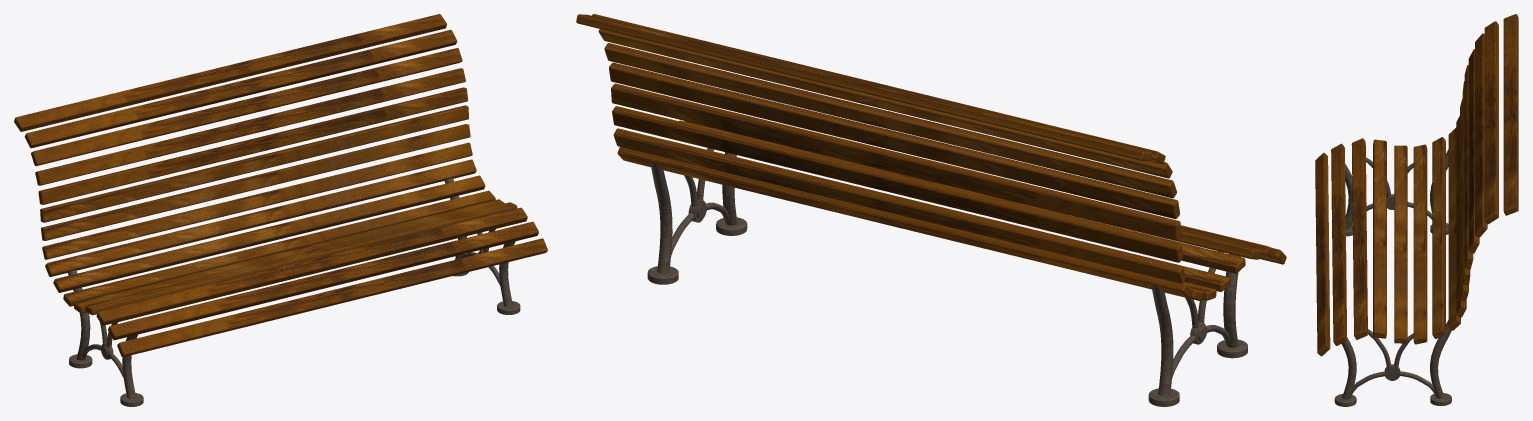
File: Banco.fbx
The picture shows the model from 3 angles, left to right: view 1: azimuth 30°, elevation 25°; view 2: azimuth 150°, elevation 25°; view 3: azimuth 270°, elevation 25°; orthographic projection. The views are drawn at different scales.
Parts seen in each view (by area): view 1: Respaldo_Tablon_9.001, PatasBanco; view 2: Respaldo_Tablon_9.001, PatasBanco; view 3: Respaldo_Tablon_9.001, PatasBanco.
Part boxes in pixels (x1,y1,x2,y2): Respaldo_Tablon_9.001: (14, 14, 547, 357); PatasBanco: (68, 178, 520, 406); Respaldo_Tablon_9.001: (576, 14, 1286, 300); PatasBanco: (647, 148, 1247, 406); Respaldo_Tablon_9.001: (1315, 14, 1518, 356); PatasBanco: (1334, 149, 1451, 406).
Bounding box in the file's own units: 618 × 310 × 276.
